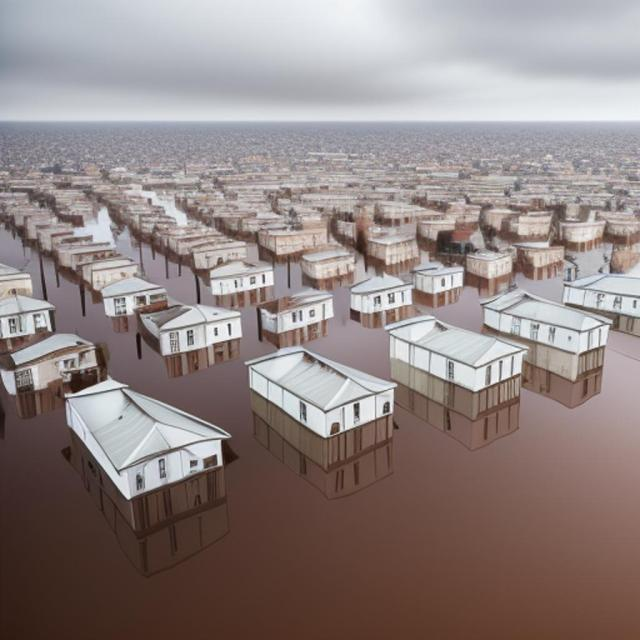flood: (0, 223, 640, 640), (90, 209, 226, 305), (238, 261, 331, 305), (552, 233, 640, 278), (453, 223, 548, 252), (140, 191, 188, 225)
house: (60, 376, 238, 504), (247, 344, 402, 442), (386, 313, 530, 394), (494, 288, 614, 384), (5, 327, 96, 392), (143, 302, 245, 355), (572, 268, 640, 331), (0, 293, 55, 365), (260, 284, 335, 336), (212, 258, 276, 308), (100, 274, 169, 318), (348, 269, 411, 316), (258, 223, 328, 263), (304, 245, 359, 291), (413, 259, 466, 303), (53, 235, 114, 272), (190, 238, 248, 273), (366, 234, 419, 268), (463, 250, 515, 282), (520, 246, 566, 281), (31, 219, 74, 253)
